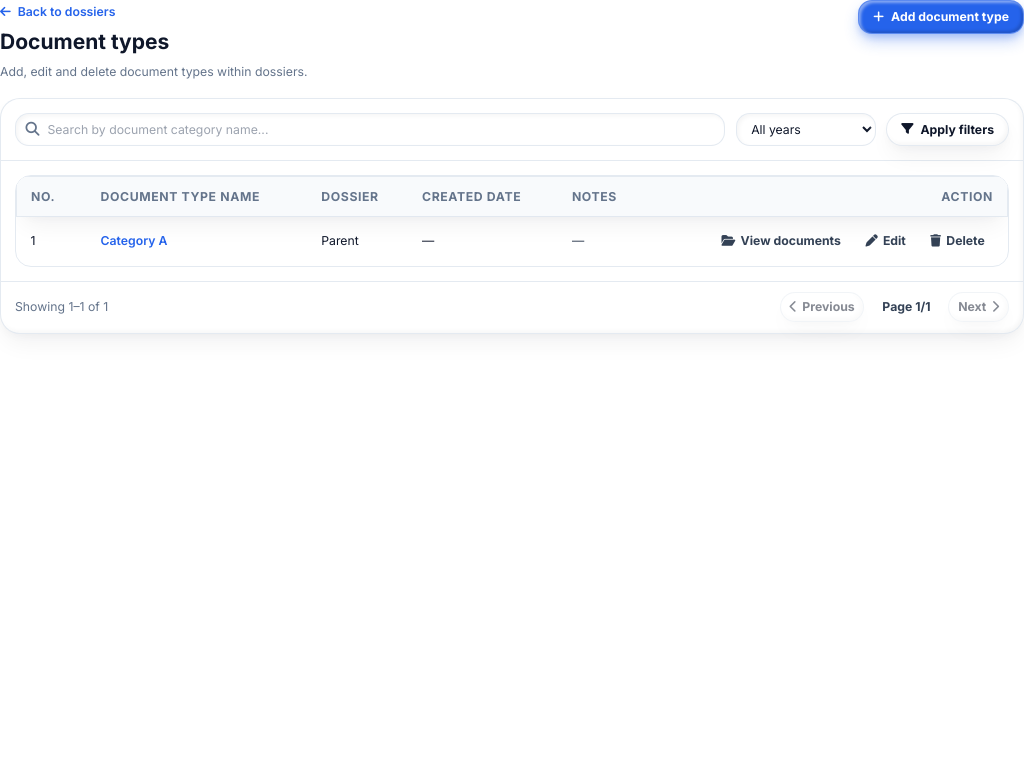
it: DocumentTypesPage shared-list handoff › allows Escape to close selection without opening a private list
Click the button "Category A".
click(134, 241)  # box [100,232,167,250]
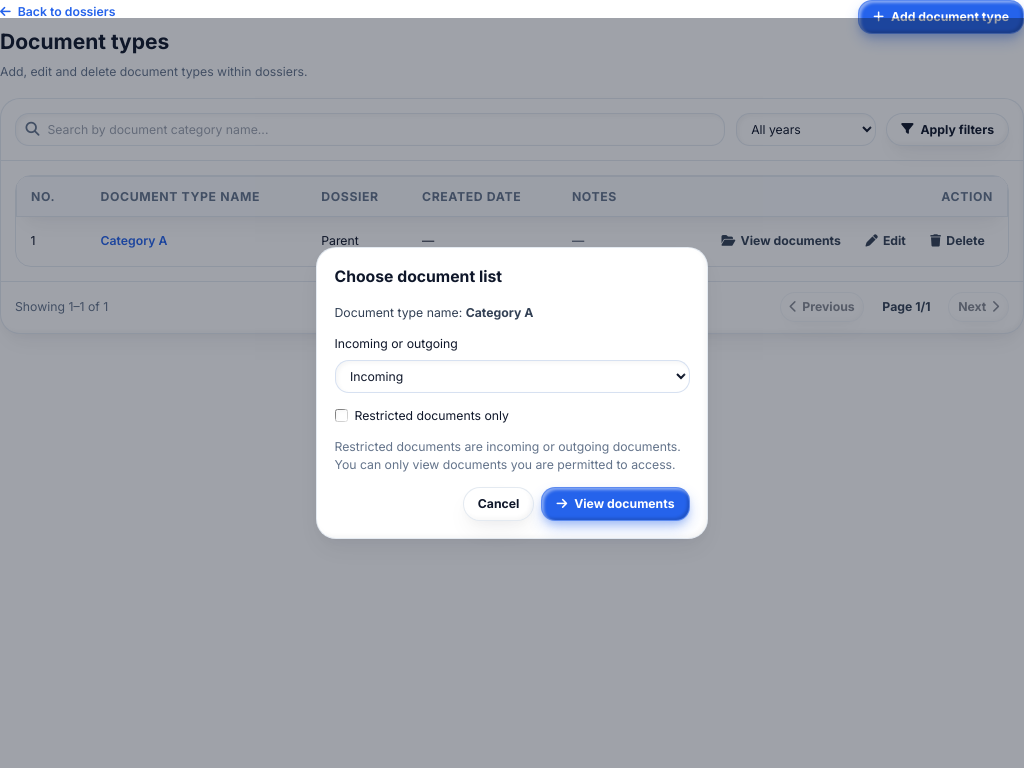
Press Escape
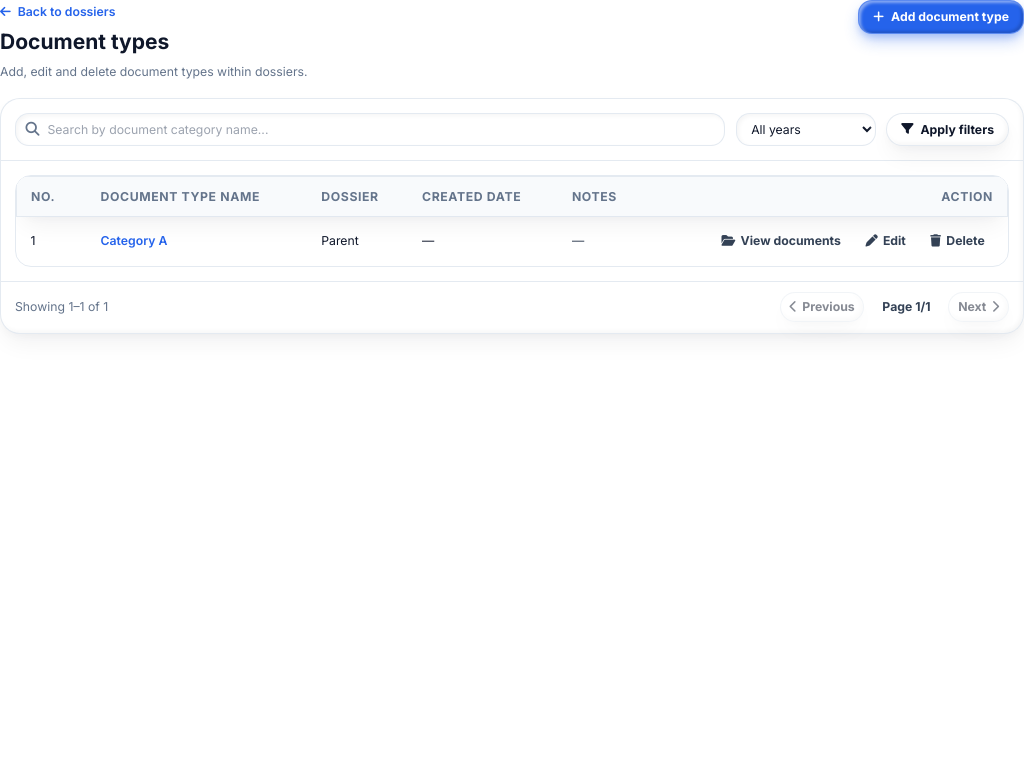
Expected: the dialog is gone
